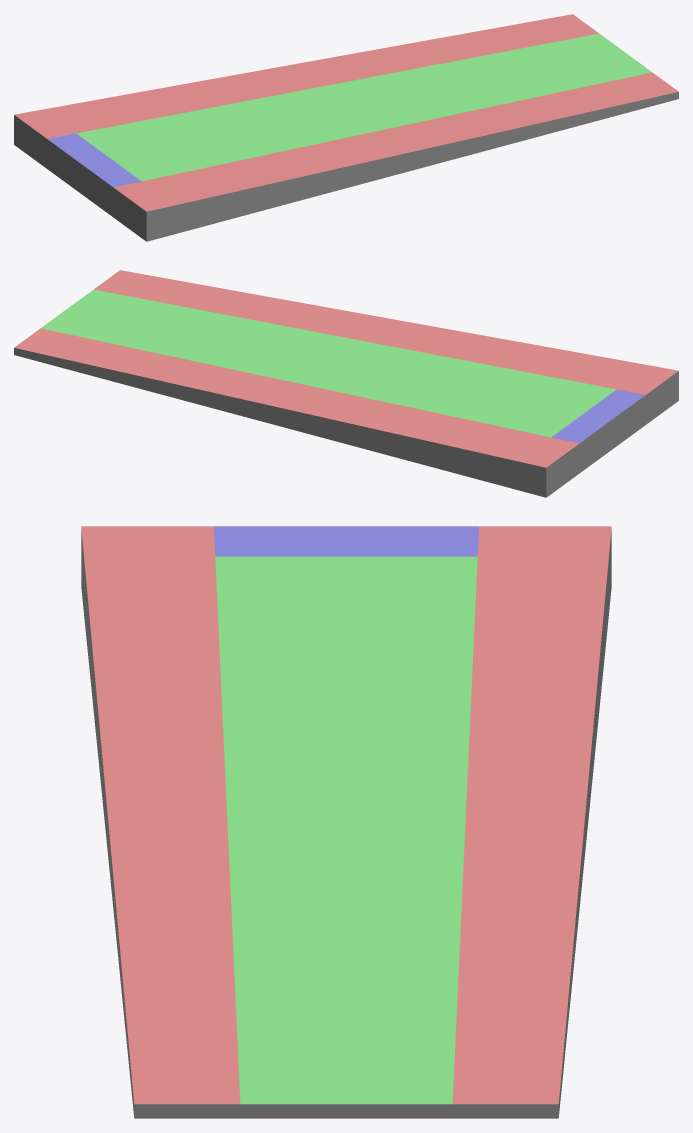
The model's file is M_BPI_BD_MapLv_T_Forest_L_A_Slope.gltf.
3 views of the same model, one above another, from view 1: azimuth 30°, elevation 25°; view 2: azimuth 150°, elevation 25°; view 3: azimuth 270°, elevation 25° (orthographic). The views are drawn at different scales.
Parts seen in each view (by area): view 1: M_BPI_BD_MapLv_T_Forest_L_A_Slope; view 2: M_BPI_BD_MapLv_T_Forest_L_A_Slope; view 3: M_BPI_BD_MapLv_T_Forest_L_A_Slope.
Boxes of the visible parts, x1,y1,x2,y2 form: M_BPI_BD_MapLv_T_Forest_L_A_Slope: (14,14,678,241); M_BPI_BD_MapLv_T_Forest_L_A_Slope: (14,270,678,497); M_BPI_BD_MapLv_T_Forest_L_A_Slope: (81,526,611,1118).
Bounding box in the file's own units: 19 × 1 × 8.
